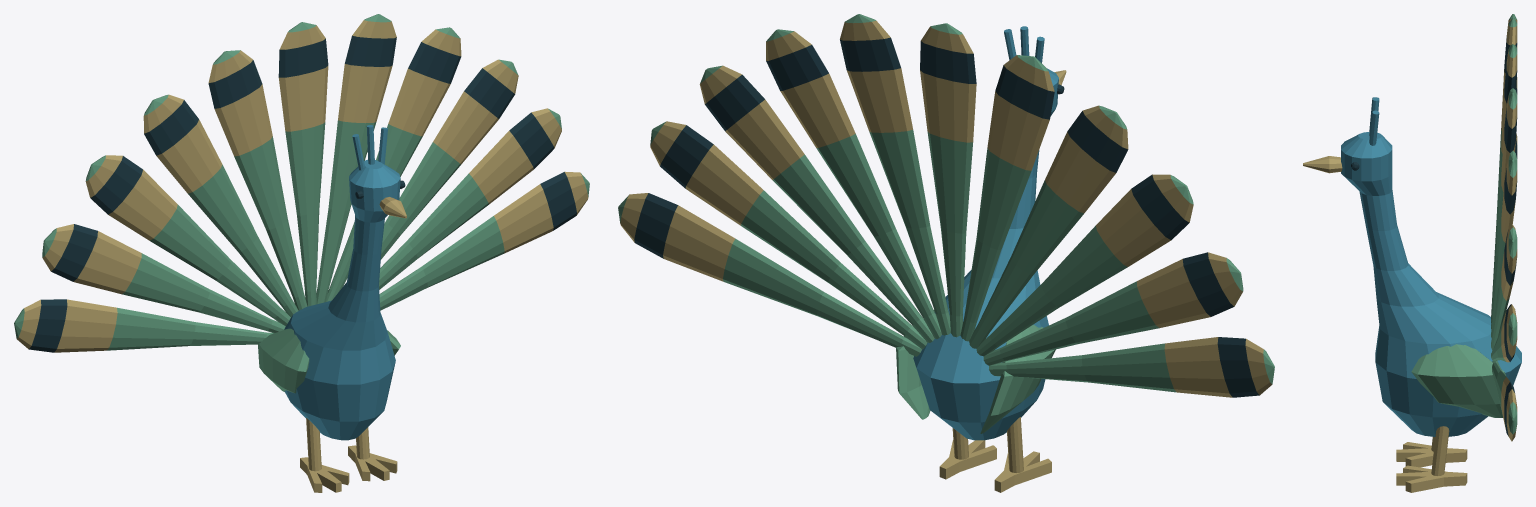
3 views of the same model, side by side, from view 1: azimuth 30°, elevation 25°; view 2: azimuth 150°, elevation 25°; view 3: azimuth 270°, elevation 25° (orthographic). The views are drawn at different scales.
Parts seen in each view (by area): view 1: WholeLowTorsoRisingNeckAndSmallPeacockHead, WholeTaperedRadialTrainFeather1, WholeTaperedRadialTrainFeather2, WholeTaperedRadialTrainFeather3, WholeTaperedRadialTrainFeather4, WholeTaperedRadialTrainFeather5, WholeTaperedRadialTrainFeather0, WholeTaperedRadialTrainFeather6, WholeTaperedRadialTrainFeather10, WholeTaperedRadialTrainFeather9, WholeTaperedRadialTrainFeather8, WholeTaperedRadialTrainFeather7 (+4 smaller); view 2: WholeTaperedRadialTrainFeather10, WholeTaperedRadialTrainFeather9, WholeTaperedRadialTrainFeather8, WholeTaperedRadialTrainFeather7, WholeTaperedRadialTrainFeather6, WholeTaperedRadialTrainFeather5, WholeTaperedRadialTrainFeather4, WholeTaperedRadialTrainFeather3, WholeTaperedRadialTrainFeather1, WholeTaperedRadialTrainFeather0, WholeTaperedRadialTrainFeather2, WholeLowTorsoRisingNeckAndSmallPeacockHead (+5 smaller); view 3: WholeLowTorsoRisingNeckAndSmallPeacockHead, WholeFoldedPeacockWing1, WholeTaperedRadialTrainFeather7, WholeTaperedRadialTrainFeather8, WholeTaperedRadialTrainFeather6, WholePeacockCleftFoot1, WholeTaperedRadialTrainFeather10, WholePeacockCleftFoot0, WholeTaperedRadialTrainFeather5, WholeTaperedRadialTrainFeather9, WholeTaperedRadialTrainFeather4, WholePeacockLeg1 (+2 smaller).
Boxes of the visible parts, left/top/right/bottom form: WholeLowTorsoRisingNeckAndSmallPeacockHead: left=284, top=159, right=400, bottom=440; WholeTaperedRadialTrainFeather1: left=42, top=224, right=285, bottom=333; WholeTaperedRadialTrainFeather2: left=85, top=155, right=290, bottom=326; WholeTaperedRadialTrainFeather3: left=143, top=94, right=298, bottom=316; WholeTaperedRadialTrainFeather4: left=208, top=50, right=307, bottom=310; WholeTaperedRadialTrainFeather5: left=278, top=22, right=328, bottom=306; WholeTaperedRadialTrainFeather0: left=14, top=299, right=273, bottom=352; WholeTaperedRadialTrainFeather6: left=316, top=14, right=396, bottom=304; WholeTaperedRadialTrainFeather10: left=379, top=171, right=589, bottom=310; WholeTaperedRadialTrainFeather9: left=379, top=108, right=561, bottom=289; WholeTaperedRadialTrainFeather8: left=380, top=59, right=518, bottom=259; WholeTaperedRadialTrainFeather7: left=326, top=27, right=461, bottom=301; WholeTaperedRadialTrainFeather10: left=618, top=193, right=921, bottom=356; WholeTaperedRadialTrainFeather9: left=650, top=121, right=927, bottom=349; WholeTaperedRadialTrainFeather8: left=699, top=65, right=934, bottom=342; WholeTaperedRadialTrainFeather7: left=766, top=29, right=941, bottom=339; WholeTaperedRadialTrainFeather6: left=840, top=14, right=950, bottom=335; WholeTaperedRadialTrainFeather5: left=920, top=23, right=976, bottom=337; WholeTaperedRadialTrainFeather4: left=960, top=55, right=1054, bottom=341; WholeTaperedRadialTrainFeather3: left=969, top=105, right=1128, bottom=348; WholeTaperedRadialTrainFeather1: left=983, top=252, right=1243, bottom=365; WholeTaperedRadialTrainFeather0: left=989, top=337, right=1274, bottom=397; WholeTaperedRadialTrainFeather2: left=976, top=174, right=1193, bottom=356; WholeLowTorsoRisingNeckAndSmallPeacockHead: left=913, top=68, right=1058, bottom=440; WholeLowTorsoRisingNeckAndSmallPeacockHead: left=1341, top=132, right=1521, bottom=436; WholeFoldedPeacockWing1: left=1411, top=344, right=1505, bottom=417; WholeTaperedRadialTrainFeather7: left=1491, top=151, right=1517, bottom=337; WholeTaperedRadialTrainFeather8: left=1491, top=223, right=1517, bottom=350; WholeTaperedRadialTrainFeather6: left=1491, top=88, right=1517, bottom=328; WholePeacockCleftFoot1: left=1396, top=465, right=1467, bottom=492; WholeTaperedRadialTrainFeather10: left=1492, top=361, right=1517, bottom=441; WholePeacockCleftFoot0: left=1396, top=442, right=1467, bottom=467; WholeTaperedRadialTrainFeather5: left=1491, top=44, right=1517, bottom=322; WholeTaperedRadialTrainFeather9: left=1491, top=304, right=1517, bottom=362; WholeTaperedRadialTrainFeather4: left=1491, top=17, right=1517, bottom=318; WholePeacockLeg1: left=1431, top=426, right=1449, bottom=475.
Bounding box in the file's own units: 3.59 × 2.52 × 1.17.
